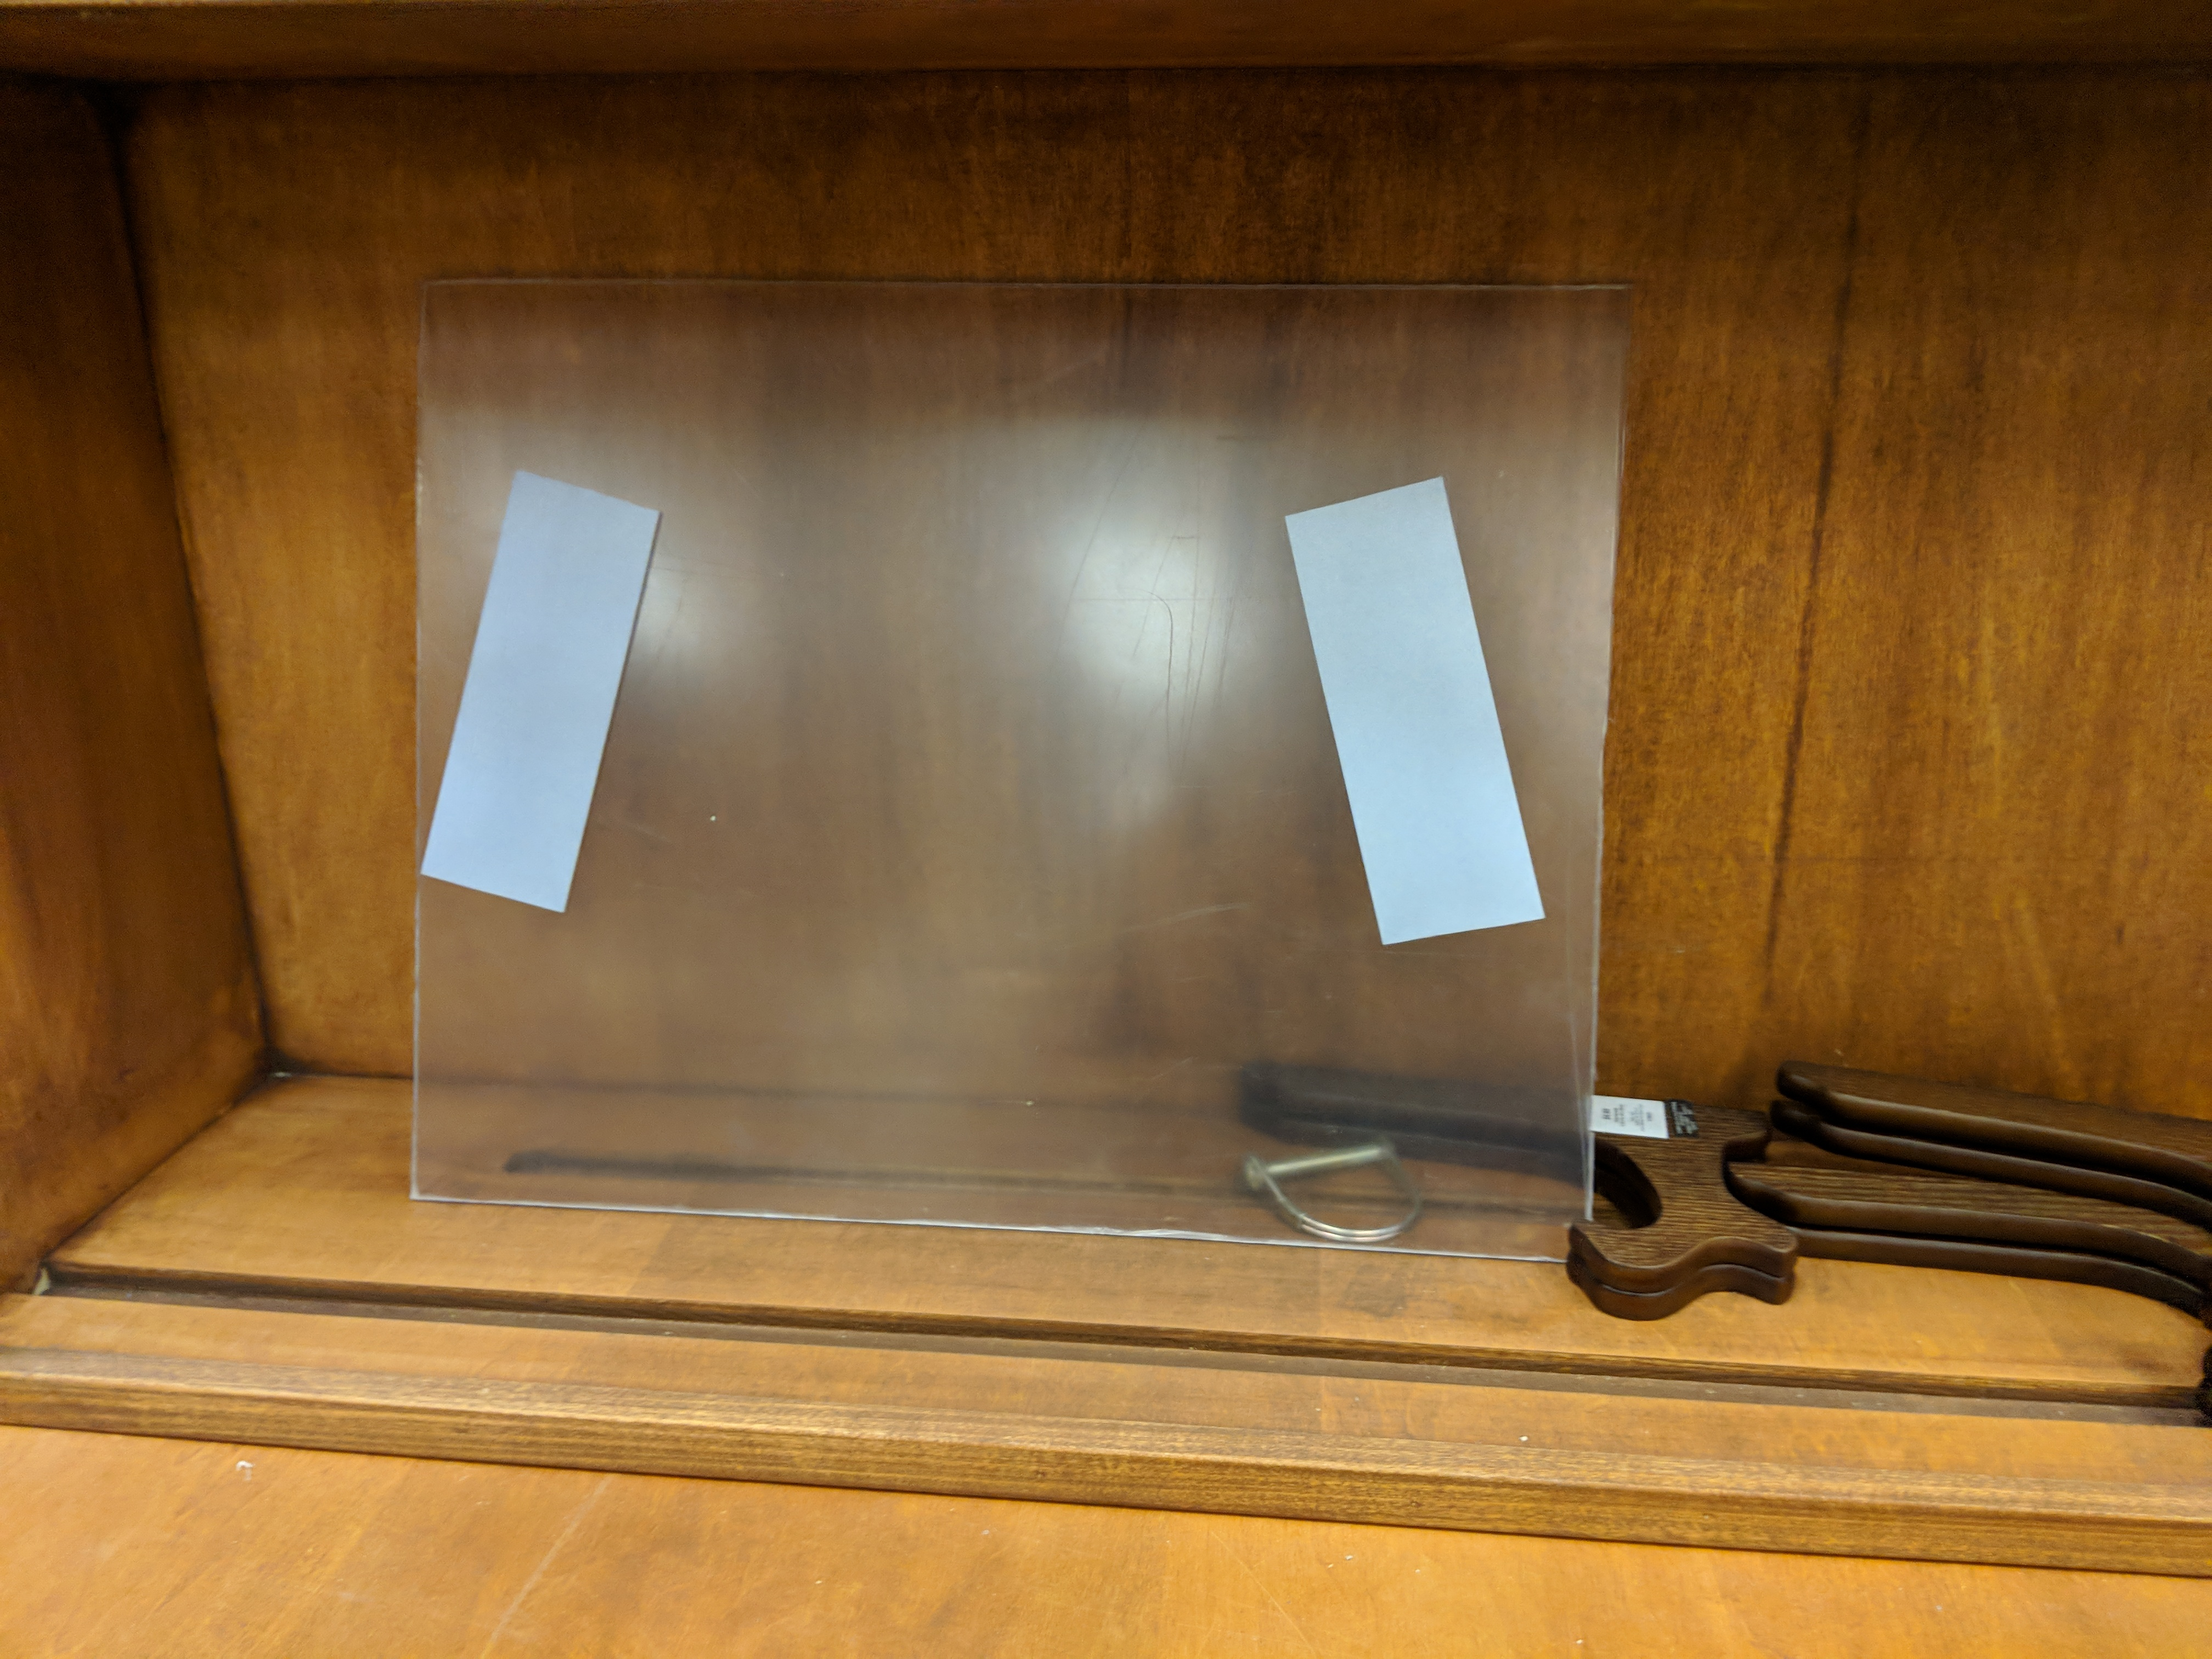vision_target: (402, 460, 1559, 962)
